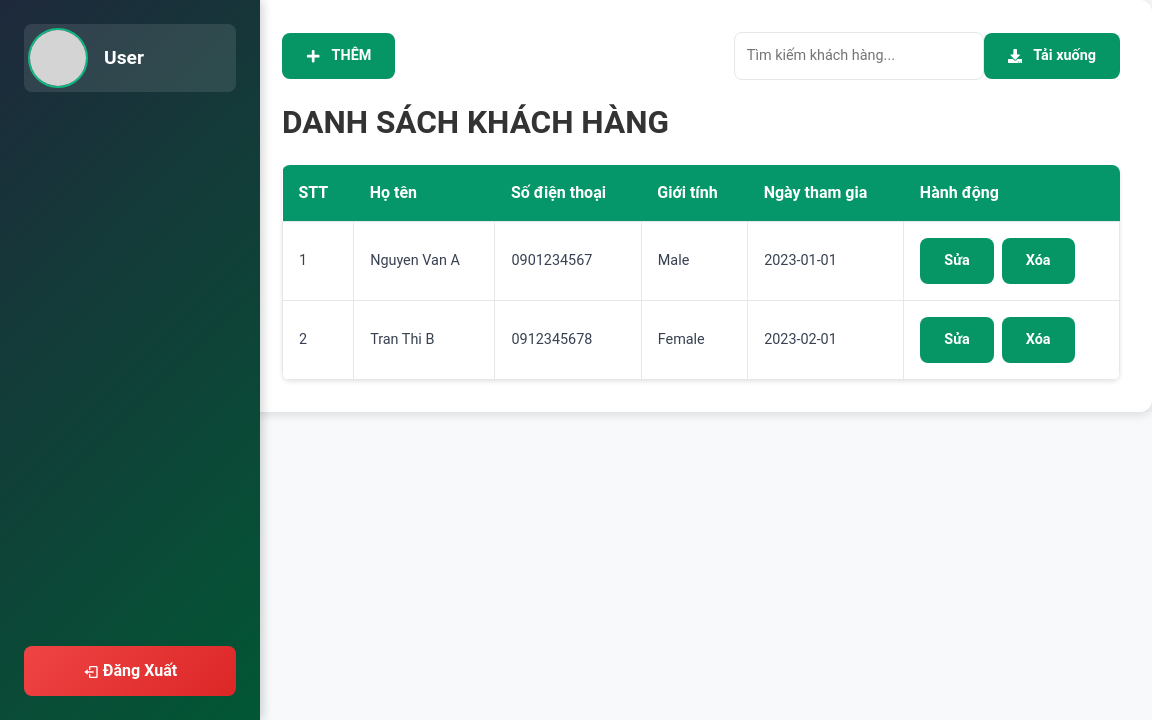
Test: Customers component › tìm kiếm khách hàng hoạt động đúng
Expected: the text "Nguyen Van A" is shown, [354,222,495,301]
Expected: the text "Tran Thi B" is shown, [354,301,495,379]
Type "Nguyen" into the field with placeholder "Tìm kiếm khách hàng..." at (859, 56), box [734,32,984,80]
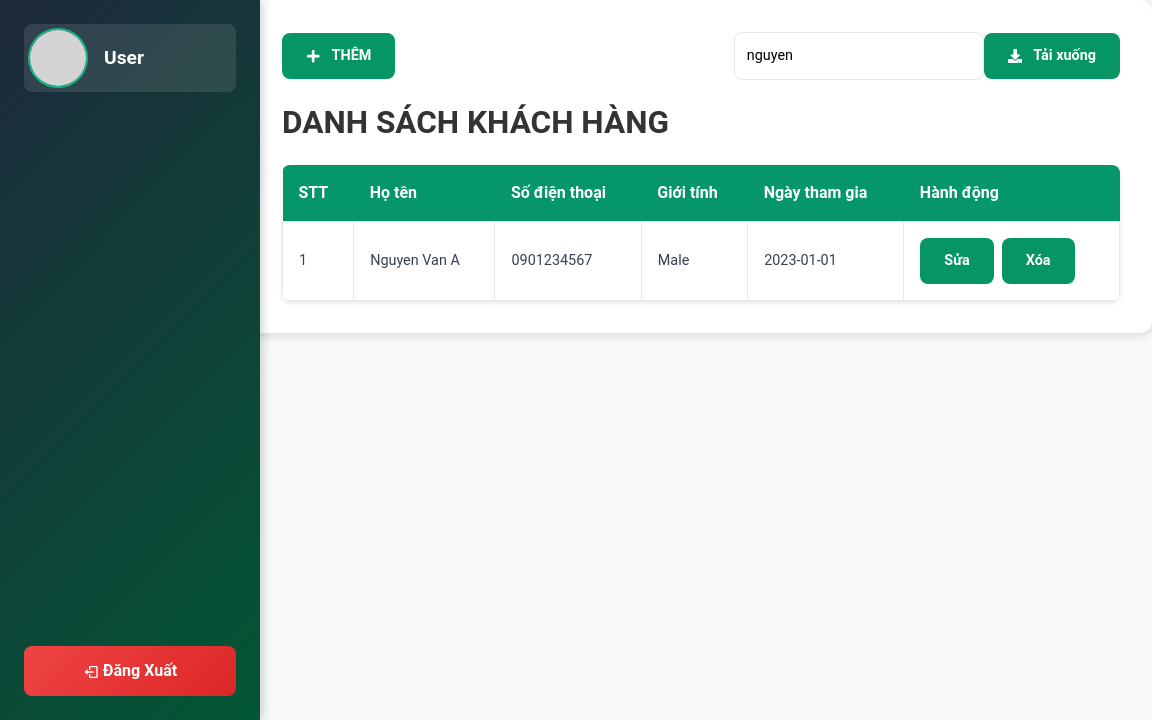
Expected: the text "Nguyen Van A" is shown, [354,222,495,301]
Now the text "Tran Thi B" is gone
